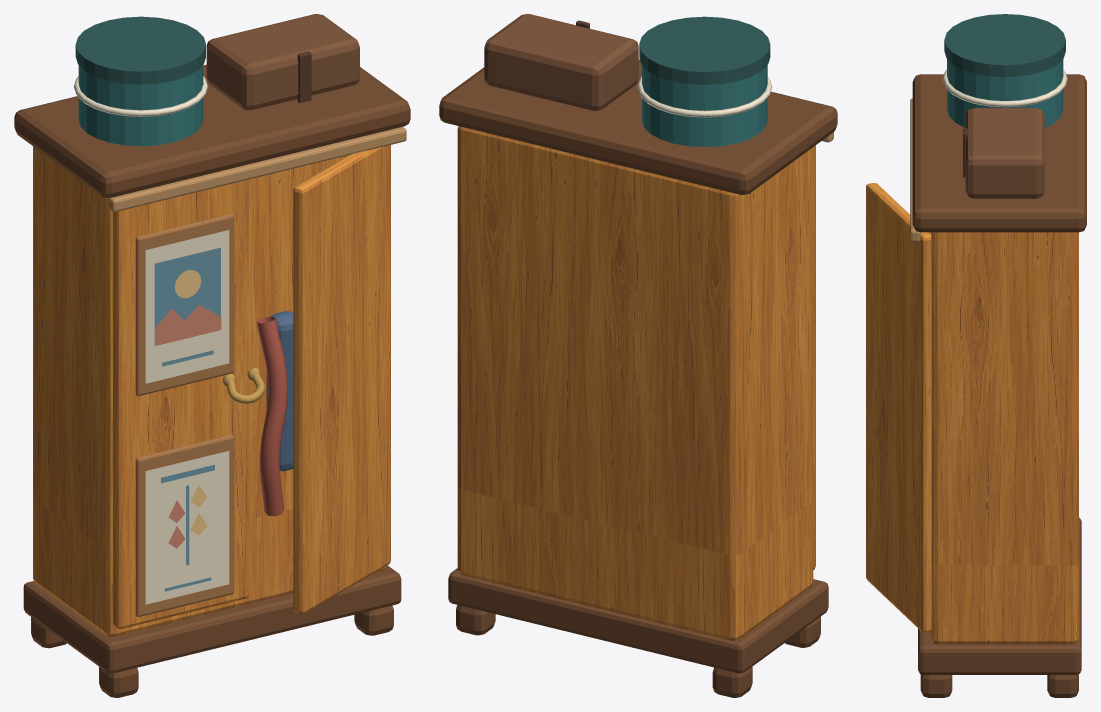
3 renders of one model, left to right at view 1: azimuth 30°, elevation 25°; view 2: azimuth 150°, elevation 25°; view 3: azimuth 270°, elevation 25°, orthographic. The views are drawn at different scales.
Visible parts, largest first — view 1: loft_oak, loft_wood_dark, loft_leather, Poster paper, loft_wood, loft_teal_dark, loft_teal, Poster paper.001, loft_wood_edge, loft_red, Travel sky, loft_blue (+4 smaller); view 2: loft_oak, loft_wood_dark, loft_leather, loft_teal_dark, loft_teal, loft_cream; view 3: loft_oak, loft_wood_dark, loft_leather, loft_teal_dark, loft_teal, loft_cream, loft_wood_edge.
Boxes of the visible parts, bbox=[...] form: loft_oak: bbox=[33, 145, 390, 637]; loft_wood_dark: bbox=[14, 64, 410, 697]; loft_leather: bbox=[206, 14, 359, 110]; Poster paper: bbox=[145, 451, 229, 604]; loft_wood: bbox=[135, 214, 234, 616]; loft_teal_dark: bbox=[75, 16, 205, 84]; loft_teal: bbox=[78, 65, 203, 146]; Poster paper.001: bbox=[145, 230, 229, 383]; loft_wood_edge: bbox=[109, 126, 406, 211]; loft_red: bbox=[256, 316, 287, 516]; Travel sky: bbox=[154, 247, 220, 345]; loft_blue: bbox=[266, 311, 293, 471]; loft_oak: bbox=[457, 126, 815, 640]; loft_wood_dark: bbox=[439, 59, 837, 697]; loft_leather: bbox=[484, 14, 638, 110]; loft_teal_dark: bbox=[639, 16, 770, 84]; loft_teal: bbox=[642, 65, 767, 146]; loft_cream: bbox=[637, 76, 772, 117]; loft_oak: bbox=[866, 183, 1078, 644]; loft_wood_dark: bbox=[912, 74, 1086, 697]; loft_leather: bbox=[965, 108, 1044, 198]; loft_teal_dark: bbox=[944, 14, 1065, 77]; loft_teal: bbox=[947, 59, 1063, 127]; loft_cream: bbox=[942, 69, 1067, 107]; loft_wood_edge: bbox=[910, 98, 920, 241].
Bounding box in the file's own units: 1.26 × 2.36 × 0.8372.
Materials: 17 (1 with a texture image).
